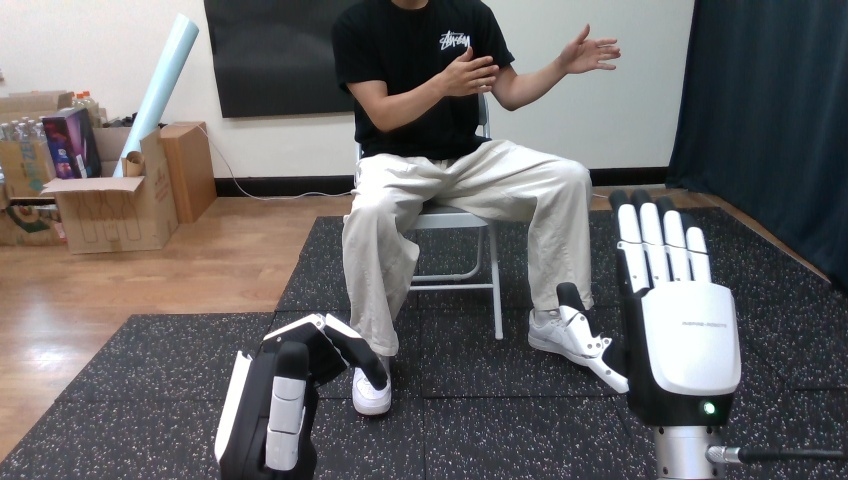left robot hand: (215, 314, 389, 478), (555, 24, 620, 75), (432, 47, 499, 96)
